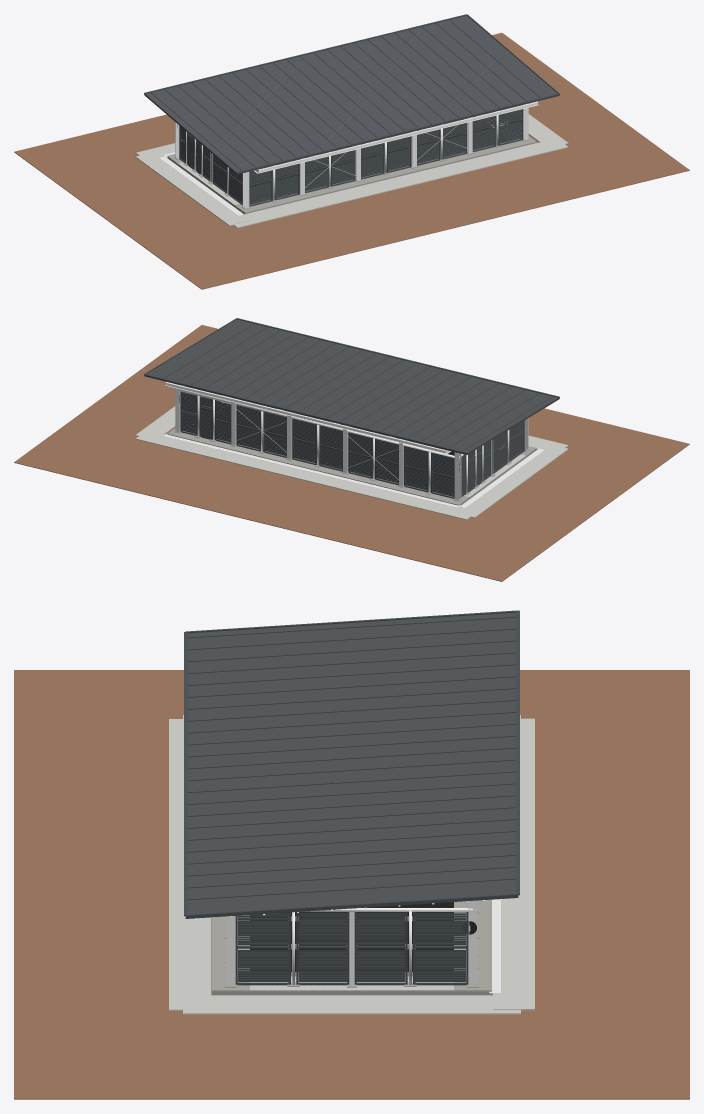
Rendered from port-haven-outdoor-gym.glb.
3 views of the same model, one above another, from view 1: azimuth 30°, elevation 25°; view 2: azimuth 150°, elevation 25°; view 3: azimuth 270°, elevation 25° (orthographic). The views are drawn at different scales.
Parts seen in each view (by area): view 1: ground_plane_port_haven_context, Kingspan_KS1000RW_ironstone_top_skin_visible, existing_footpath_south_RL_8_680, 1350_wide_x_800_deep_strip_footing_grid_2_cast_concrete, existing_footpath_west_RL_8_700, B4_200UB29.8_eaves_roof_edge, eaves_SC20024_cleader_flashing_support, crown_C20024_cleader_flashing_support, Kingspan_KS1000RW_100mm_roof_panel_single_slope, existing_footpath_east_RL_8_680, blue_metal_landscape_strip_grid_A, black_rubber_mat_floor_finish_on_existing_slab; view 2: ground_plane_port_haven_context, Kingspan_KS1000RW_ironstone_top_skin_visible, existing_footpath_north_RL_8_700, 1350_wide_x_800_deep_strip_footing_grid_1_cast_concrete, existing_footpath_west_RL_8_700, B4_200UB29.8_crown_roof_edge, blue_metal_landscape_strip_grid_1, black_rubber_mat_floor_finish_on_existing_slab, crown_C20024_cleader_flashing_support, B3_150x100x6_RHS_wall_head_grid_1, eaves_SC20024_cleader_flashing_support, Kingspan_KS1000RW_100mm_roof_panel_single_slope (+2 smaller); view 3: ground_plane_port_haven_context, Kingspan_KS1000RW_ironstone_top_skin_visible, existing_footpath_north_RL_8_700, existing_footpath_south_RL_8_680, existing_footpath_east_RL_8_680, black_rubber_mat_floor_finish_on_existing_slab, 1350_wide_x_800_deep_strip_footing_grid_1_cast_concrete, 900_wide_x_450_deep_strip_footing_grid_F_cast_concrete, 60mm_raised_perimeter_concrete_upstand_RL_8_760_grid_F, 1350_wide_x_800_deep_strip_footing_grid_2_cast_concrete, crown_C20024_cleader_flashing_support, eaves_SC20024_cleader_flashing_support (+5 smaller).
Boxes of the visible parts, left/top/right/bottom form: ground_plane_port_haven_context: left=14, top=32, right=689, bottom=289; Kingspan_KS1000RW_ironstone_top_skin_visible: left=146, top=15, right=557, bottom=171; existing_footpath_south_RL_8_680: left=233, top=142, right=568, bottom=228; 1350_wide_x_800_deep_strip_footing_grid_2_cast_concrete: left=234, top=136, right=536, bottom=214; existing_footpath_west_RL_8_700: left=135, top=151, right=249, bottom=225; B4_200UB29.8_eaves_roof_edge: left=258, top=101, right=537, bottom=173; eaves_SC20024_cleader_flashing_support: left=237, top=93, right=559, bottom=173; crown_C20024_cleader_flashing_support: left=144, top=14, right=467, bottom=93; Kingspan_KS1000RW_100mm_roof_panel_single_slope: left=144, top=95, right=559, bottom=174; existing_footpath_east_RL_8_680: left=528, top=114, right=568, bottom=147; blue_metal_landscape_strip_grid_A: left=159, top=156, right=244, bottom=215; black_rubber_mat_floor_finish_on_existing_slab: left=205, top=126, right=492, bottom=186; ground_plane_port_haven_context: left=14, top=325, right=689, bottom=581; Kingspan_KS1000RW_ironstone_top_skin_visible: left=146, top=319, right=557, bottom=452; existing_footpath_north_RL_8_700: left=135, top=430, right=470, bottom=519; 1350_wide_x_800_deep_strip_footing_grid_1_cast_concrete: left=167, top=428, right=469, bottom=505; existing_footpath_west_RL_8_700: left=454, top=444, right=568, bottom=518; B4_200UB29.8_crown_roof_edge: left=166, top=382, right=445, bottom=453; blue_metal_landscape_strip_grid_1: left=163, top=434, right=460, bottom=507; black_rubber_mat_floor_finish_on_existing_slab: left=217, top=400, right=498, bottom=478; crown_C20024_cleader_flashing_support: left=144, top=374, right=467, bottom=453; B3_150x100x6_RHS_wall_head_grid_1: left=179, top=389, right=454, bottom=457; eaves_SC20024_cleader_flashing_support: left=237, top=318, right=559, bottom=397; Kingspan_KS1000RW_100mm_roof_panel_single_slope: left=144, top=375, right=559, bottom=454; ground_plane_port_haven_context: left=14, top=670, right=689, bottom=1099; Kingspan_KS1000RW_ironstone_top_skin_visible: left=187, top=612, right=516, bottom=914; existing_footpath_north_RL_8_700: left=493, top=718, right=534, bottom=1010; existing_footpath_south_RL_8_680: left=169, top=719, right=211, bottom=1010; existing_footpath_east_RL_8_680: left=183, top=995, right=520, bottom=1014; black_rubber_mat_floor_finish_on_existing_slab: left=250, top=902, right=453, bottom=975; 1350_wide_x_800_deep_strip_footing_grid_1_cast_concrete: left=454, top=899, right=491, bottom=990; 900_wide_x_450_deep_strip_footing_grid_F_cast_concrete: left=212, top=990, right=491, bottom=995; 60mm_raised_perimeter_concrete_upstand_RL_8_760_grid_F: left=212, top=979, right=491, bottom=991; 1350_wide_x_800_deep_strip_footing_grid_2_cast_concrete: left=212, top=915, right=249, bottom=990; crown_C20024_cleader_flashing_support: left=516, top=610, right=519, bottom=895; eaves_SC20024_cleader_flashing_support: left=184, top=632, right=187, bottom=916.
Size of the model in its own units: 36 by 5.2 by 24.
